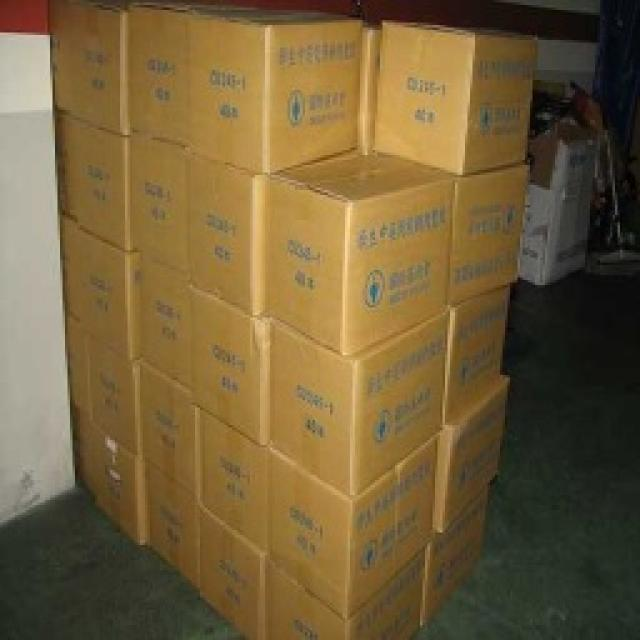box: (279, 154, 445, 338), (184, 0, 362, 169), (278, 331, 447, 469), (274, 452, 453, 579), (383, 19, 526, 165), (185, 139, 280, 302), (269, 563, 419, 640), (201, 266, 271, 426), (199, 407, 274, 545), (56, 108, 134, 236), (448, 395, 520, 520), (57, 6, 128, 129), (127, 0, 190, 138), (458, 165, 526, 291), (202, 513, 270, 639), (447, 281, 520, 392), (425, 527, 515, 613), (126, 141, 186, 266), (135, 259, 198, 378), (144, 371, 204, 487), (85, 230, 140, 354), (145, 463, 198, 588), (83, 344, 141, 445), (104, 445, 151, 549), (54, 214, 94, 327), (70, 423, 114, 505), (60, 312, 92, 408)
